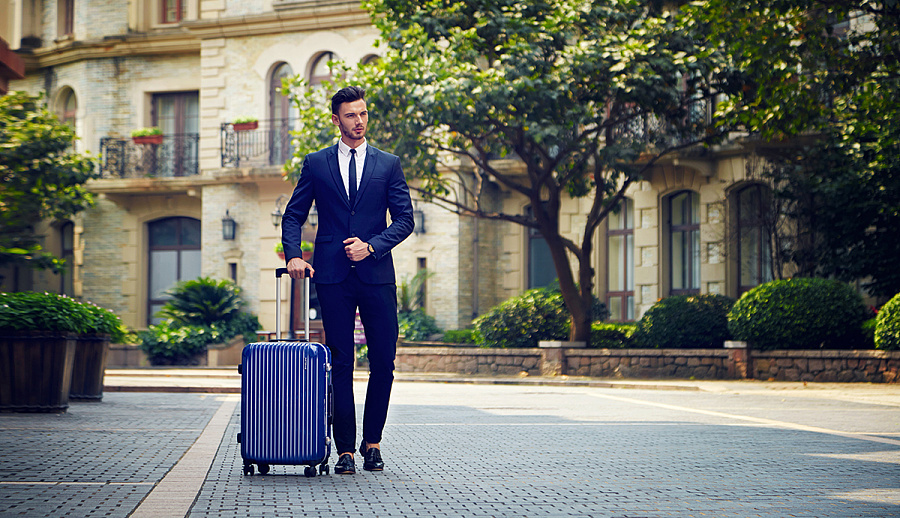luggage: (235, 264, 332, 482)
